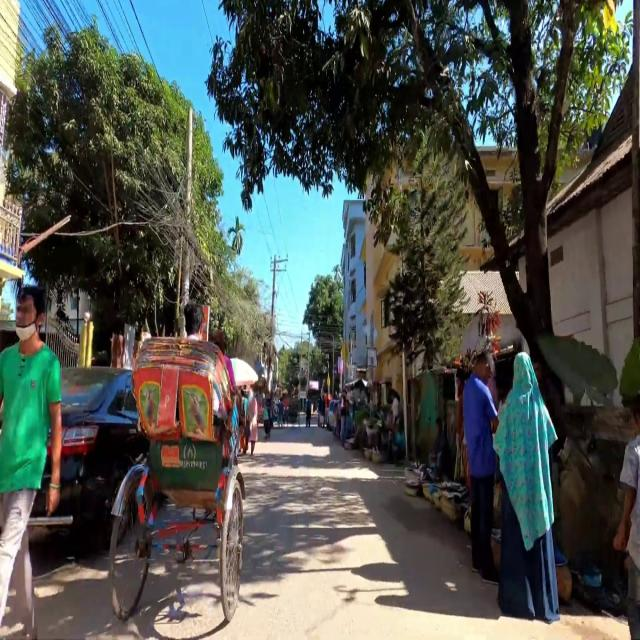black: (61, 354, 125, 554)
